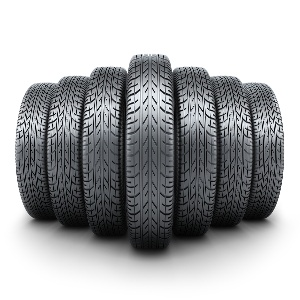tire: (127, 53, 171, 252), (82, 65, 127, 241), (171, 65, 213, 242), (14, 79, 57, 226), (211, 73, 248, 232), (50, 75, 88, 228), (245, 83, 283, 227)
